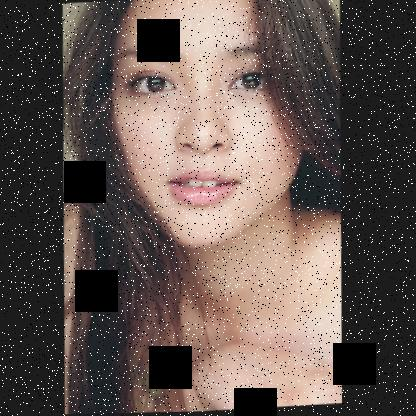Female: (101, 0, 312, 249)
